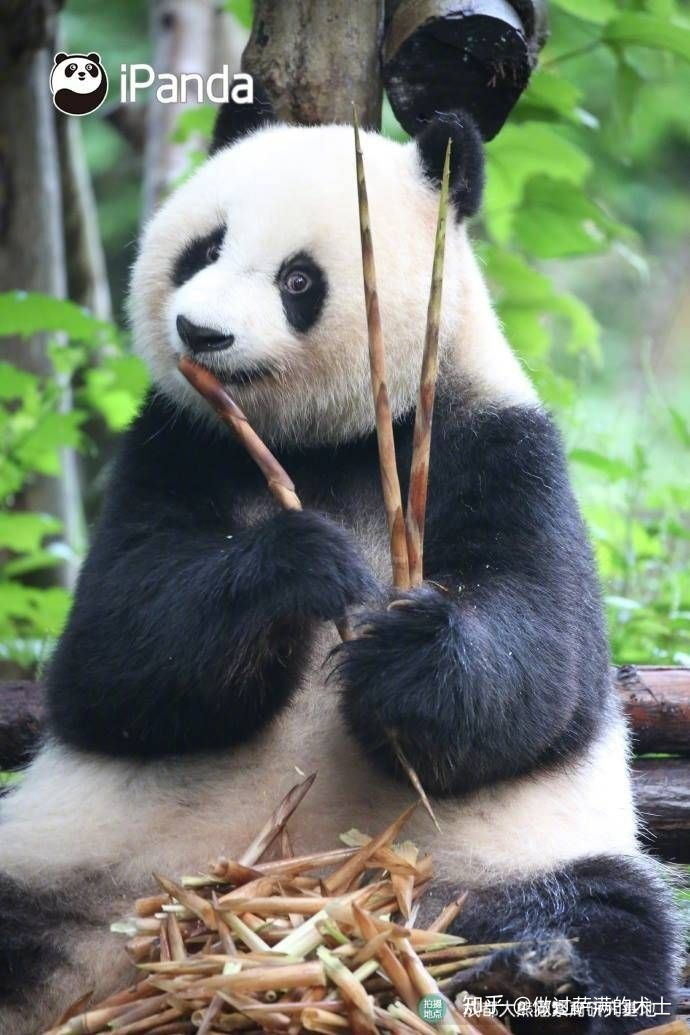panda: (48, 122, 690, 989)
